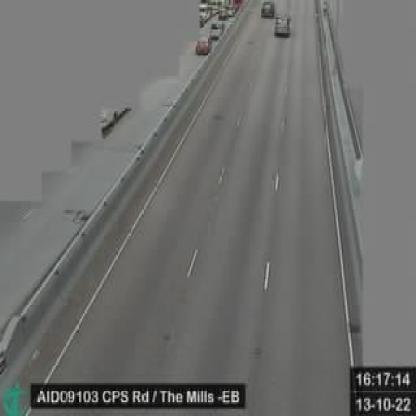Car: (274, 13, 290, 36), (210, 22, 226, 39), (196, 38, 210, 55), (260, 2, 274, 19)
